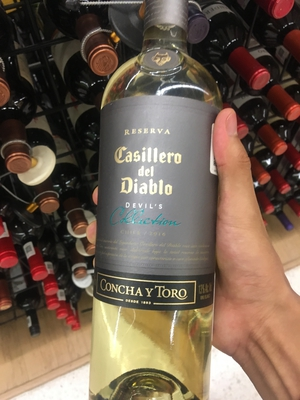casillero del diablo devils collection verde: (78, 8, 236, 400)
